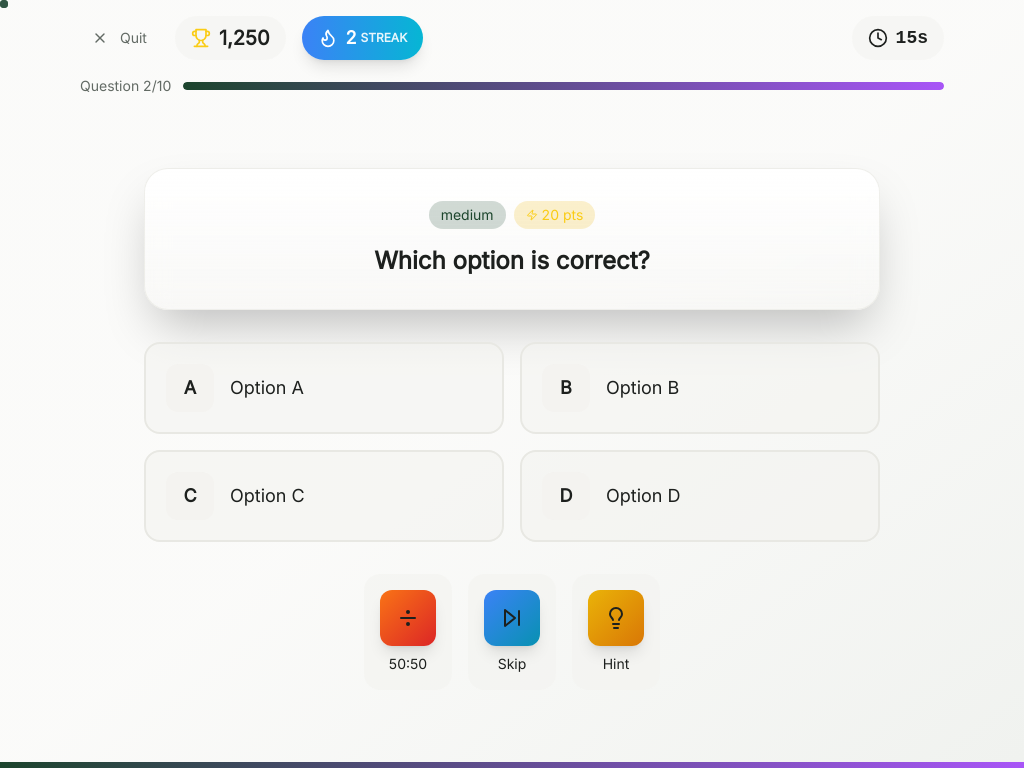
QuizGame › doubles speed-mode points and shows the streak milestone popup
Expected: the text "15s" is shown, [896,24,928,52]
Step 1. Click the text "Option B" → (643, 388), box [606,377,679,398]
Wait 2000 ms
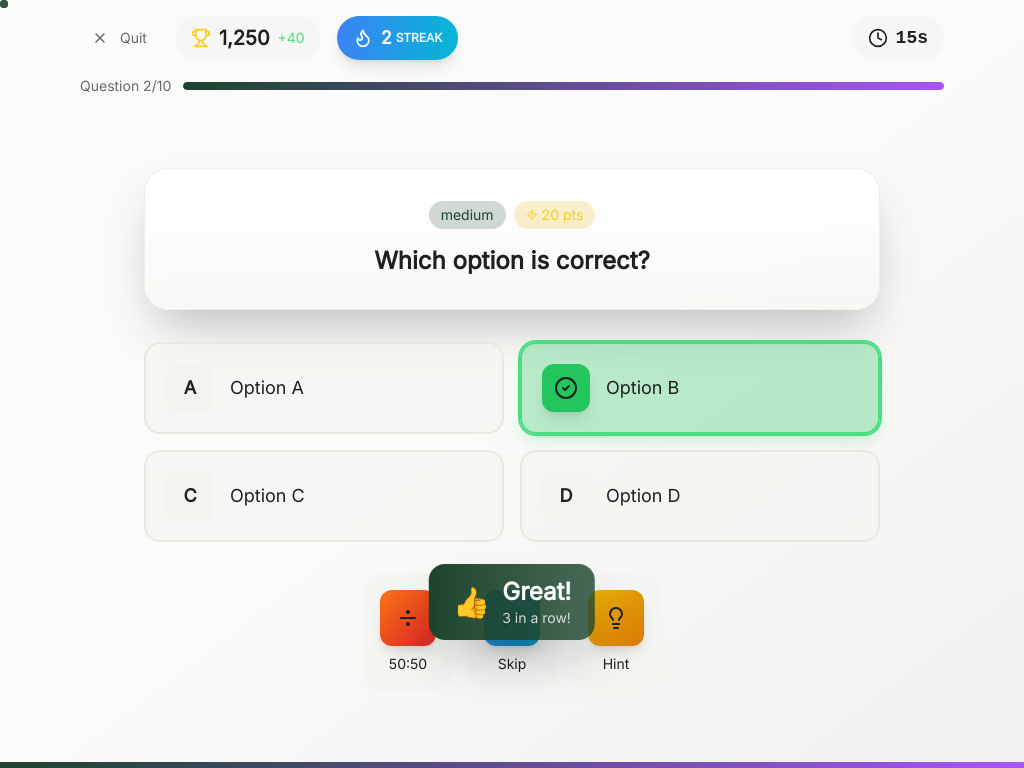
Expected: the text "+40" is shown, [278,28,305,48]
Expected: the text "3 in a row!" is shown, [502,608,571,628]
Expected: the text "Great!" is shown, [502,576,571,608]
